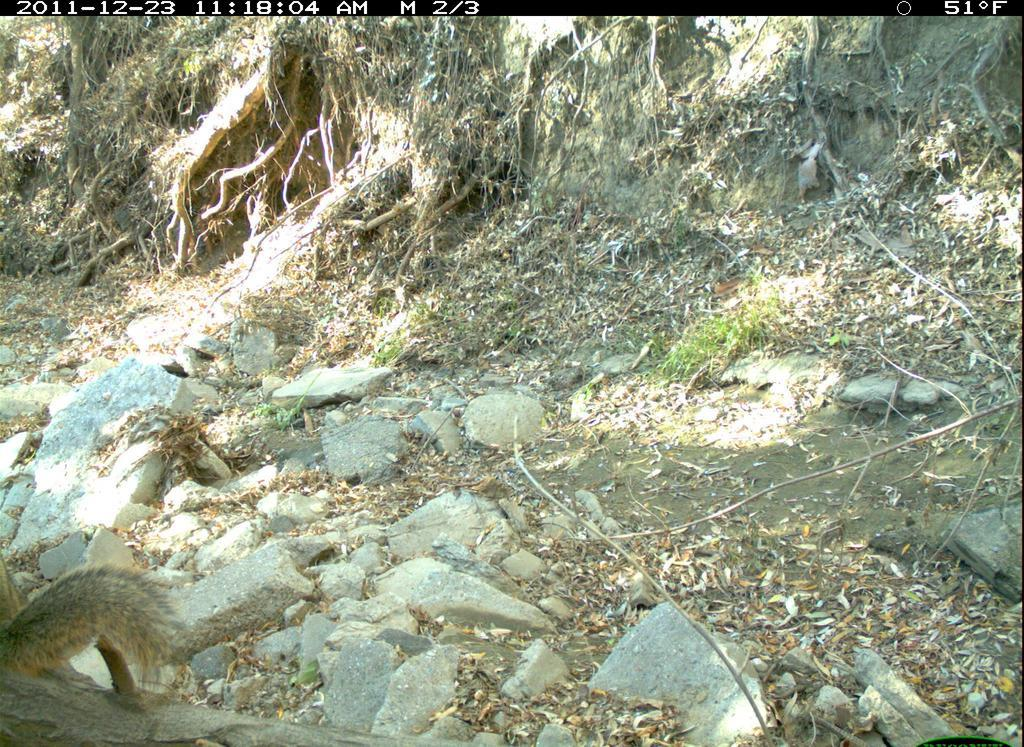squirrel: (4, 530, 196, 707)
